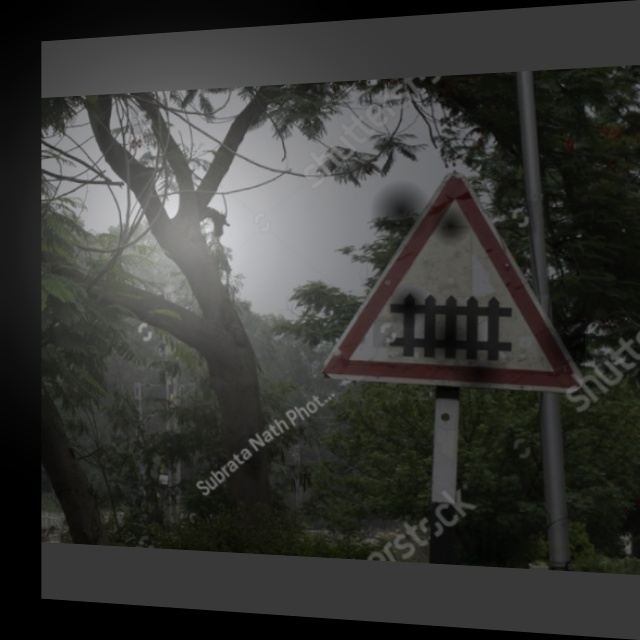Guarded_Level_Crossing: (327, 174, 585, 389)
